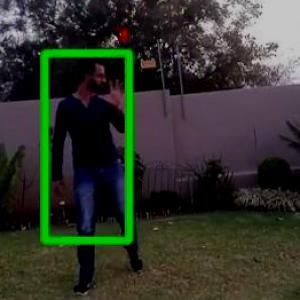follow_hand: (99, 74, 130, 113)
